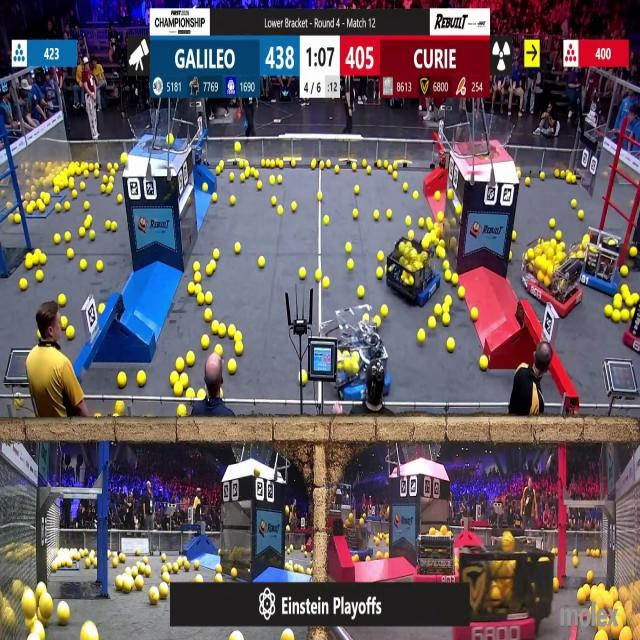ball_airborne: (502, 532, 513, 552), (169, 136, 174, 145)
ball_ground: (39, 595, 53, 619), (80, 624, 98, 640), (59, 604, 71, 627), (149, 589, 158, 605), (576, 590, 586, 604), (161, 586, 170, 600), (138, 372, 146, 387), (117, 373, 125, 388), (122, 581, 131, 594), (481, 356, 489, 370), (186, 352, 194, 366), (171, 372, 179, 386), (177, 358, 185, 372), (115, 400, 123, 414), (282, 630, 293, 640), (448, 339, 456, 352), (202, 337, 210, 350), (418, 331, 426, 344), (180, 375, 188, 388), (615, 294, 623, 307), (36, 585, 45, 596), (230, 360, 237, 374), (302, 372, 309, 386), (115, 576, 122, 590), (178, 406, 186, 418), (236, 344, 244, 356), (218, 324, 226, 336), (67, 326, 75, 338), (18, 279, 26, 291), (587, 570, 595, 582), (174, 384, 182, 396), (207, 264, 215, 276), (136, 576, 144, 588), (614, 311, 622, 323), (212, 321, 219, 334), (205, 309, 212, 322), (227, 324, 234, 337), (68, 181, 76, 192), (631, 247, 639, 258), (469, 309, 476, 321), (298, 268, 305, 280), (458, 286, 465, 298), (444, 314, 451, 326), (235, 242, 242, 254), (205, 292, 212, 304), (357, 286, 364, 298), (434, 305, 441, 317), (428, 317, 435, 329), (604, 306, 611, 318), (198, 389, 206, 399), (26, 260, 34, 270), (193, 284, 201, 294), (622, 285, 630, 295), (554, 580, 560, 593), (97, 262, 104, 273), (193, 273, 200, 284), (188, 283, 195, 294), (213, 249, 220, 260), (198, 293, 205, 304), (623, 310, 630, 321), (236, 332, 243, 343), (139, 564, 146, 575), (60, 293, 66, 305), (68, 248, 74, 260), (382, 306, 388, 318), (453, 274, 459, 286), (633, 292, 639, 304), (192, 389, 200, 398), (322, 278, 329, 288), (215, 346, 222, 356), (36, 272, 43, 282), (164, 572, 171, 582), (186, 388, 193, 398), (445, 272, 452, 282), (378, 251, 385, 261), (622, 268, 629, 278), (316, 190, 323, 200), (439, 248, 446, 258), (38, 630, 45, 640), (41, 192, 48, 202), (172, 564, 179, 574), (258, 256, 264, 267), (80, 261, 86, 272), (291, 202, 297, 213), (62, 317, 68, 328), (120, 152, 126, 163), (34, 253, 40, 264), (193, 574, 200, 583), (215, 573, 222, 582), (444, 305, 451, 314), (446, 295, 453, 304), (83, 219, 90, 228), (269, 176, 276, 185), (14, 398, 21, 407), (91, 231, 97, 241), (316, 271, 322, 281), (354, 184, 360, 194), (348, 261, 354, 271), (79, 229, 85, 239), (66, 233, 72, 243), (323, 215, 329, 225), (434, 190, 440, 200), (55, 235, 61, 245), (419, 218, 425, 228), (378, 269, 384, 279), (556, 232, 562, 242), (352, 209, 358, 219), (346, 243, 352, 253), (40, 254, 46, 264), (577, 210, 583, 220), (445, 262, 451, 272), (107, 183, 113, 193), (193, 560, 199, 570), (372, 211, 378, 221), (105, 220, 111, 230), (376, 316, 382, 326), (407, 216, 413, 226), (145, 566, 151, 576), (232, 568, 238, 578), (550, 218, 556, 228), (253, 170, 259, 180), (99, 305, 105, 315), (456, 205, 462, 215), (626, 296, 632, 306), (183, 561, 189, 571), (123, 566, 129, 576), (192, 264, 199, 272), (596, 633, 604, 640), (259, 161, 266, 169), (387, 209, 392, 220), (83, 202, 89, 211), (448, 189, 454, 198), (439, 212, 445, 221), (13, 214, 19, 223), (427, 220, 433, 229), (572, 558, 578, 567), (132, 567, 138, 576), (95, 170, 101, 179), (244, 170, 250, 179), (52, 564, 58, 573), (229, 197, 234, 207), (65, 202, 70, 212), (571, 201, 577, 209), (216, 565, 222, 573), (353, 555, 359, 563), (100, 184, 106, 192), (290, 161, 296, 169), (413, 190, 419, 198), (524, 177, 530, 185), (278, 207, 284, 215), (227, 174, 233, 182), (112, 560, 118, 568), (162, 554, 168, 562), (28, 206, 34, 214), (311, 162, 317, 170), (39, 204, 45, 212), (278, 162, 284, 170), (555, 170, 561, 178), (112, 164, 118, 172), (592, 551, 598, 559), (566, 178, 572, 186), (325, 162, 331, 170), (267, 161, 273, 169), (72, 189, 77, 198), (272, 198, 277, 207), (111, 221, 116, 230), (513, 233, 518, 242), (409, 232, 414, 241), (57, 204, 62, 213), (507, 252, 512, 261), (119, 554, 124, 563), (36, 329, 41, 338), (110, 170, 116, 177), (572, 550, 578, 557), (163, 565, 169, 572), (363, 314, 368, 322), (213, 194, 217, 204), (120, 195, 124, 205), (257, 180, 261, 190), (219, 162, 224, 170), (336, 166, 341, 174), (392, 172, 397, 180), (278, 178, 283, 186), (103, 175, 108, 183), (571, 175, 576, 183), (319, 162, 324, 170), (517, 169, 522, 177), (378, 553, 383, 561), (378, 162, 383, 170), (553, 546, 558, 554), (365, 556, 371, 562), (83, 171, 88, 178), (107, 165, 112, 172), (388, 168, 393, 175), (56, 186, 61, 193), (90, 165, 95, 172), (204, 183, 208, 191), (403, 183, 407, 191), (80, 182, 84, 190), (540, 172, 544, 180), (241, 174, 245, 182), (362, 161, 366, 169), (85, 560, 89, 568), (393, 163, 397, 171), (366, 168, 370, 175), (216, 168, 220, 175), (352, 165, 356, 172), (384, 162, 388, 169), (587, 550, 591, 557), (385, 554, 389, 560), (144, 558, 148, 564)
goal: (460, 118, 517, 158), (128, 116, 186, 152)
robot_blue: (330, 321, 391, 408), (387, 239, 440, 307), (578, 231, 625, 295), (344, 520, 369, 558)
robot_red: (461, 546, 539, 640), (523, 241, 583, 312), (416, 528, 456, 584), (624, 292, 640, 354)
